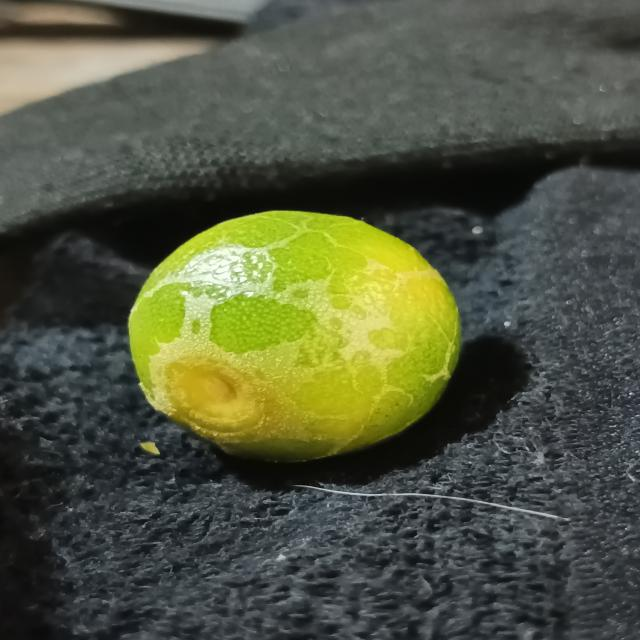thrips: (118, 208, 476, 461)
